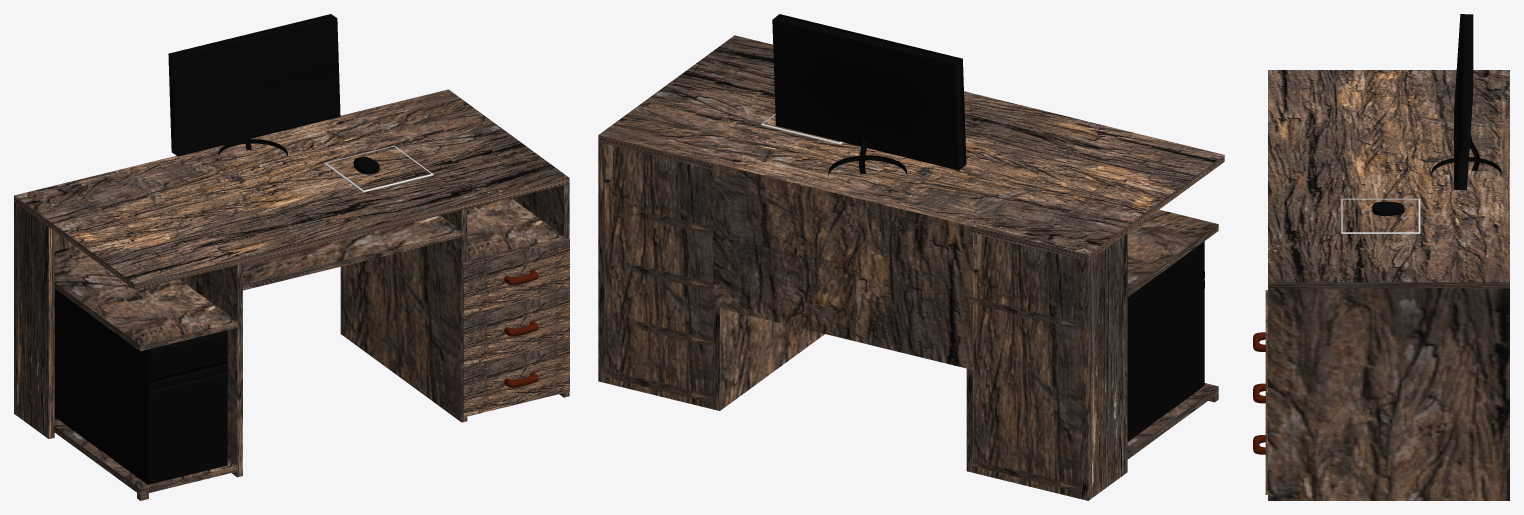
The model's file is Table.glb.
The picture shows the model from 3 angles, left to right: view 1: azimuth 30°, elevation 25°; view 2: azimuth 150°, elevation 25°; view 3: azimuth 270°, elevation 25°; orthographic projection. The views are drawn at different scales.
Visible parts, largest first — view 1: Cube, proccessor, monitor, Cube.003, Cube.006, Cube.001, Cube.005, Cube.017, Cube.018, Cube.016, Cube.004, Cube.012 (+2 smaller); view 2: Cube, Cube.009, Cube.011, Cube.010, monitor, proccessor, Cube.001, Cube.003, Cube.006, Cube.007, Cube.002, Cube.015 (+3 smaller); view 3: Cube.002, Cube, monitor, Cube.009, Plane, mouse, Cube.017.
Part boxes in pixels (bbox=[...]): Cube: bbox=[14, 89, 569, 289]; proccessor: bbox=[54, 289, 227, 484]; monitor: bbox=[168, 14, 340, 156]; Cube.003: bbox=[340, 209, 467, 422]; Cube.006: bbox=[54, 246, 237, 351]; Cube.001: bbox=[14, 201, 54, 438]; Cube.005: bbox=[242, 215, 462, 290]; Cube.017: bbox=[462, 238, 569, 314]; Cube.018: bbox=[462, 340, 569, 417]; Cube.016: bbox=[462, 289, 569, 365]; Cube.004: bbox=[179, 263, 242, 477]; Cube.012: bbox=[467, 198, 563, 262]; Cube: bbox=[598, 35, 1224, 261]; Cube.009: bbox=[713, 160, 976, 369]; Cube.011: bbox=[973, 233, 1091, 500]; Cube.010: bbox=[604, 143, 713, 409]; monitor: bbox=[772, 14, 966, 177]; proccessor: bbox=[1127, 241, 1204, 441]; Cube.001: bbox=[1082, 233, 1127, 500]; Cube.003: bbox=[713, 307, 824, 410]; Cube.006: bbox=[973, 209, 1218, 330]; Cube.007: bbox=[973, 383, 1218, 492]; Cube.002: bbox=[598, 142, 604, 382]; Cube.015: bbox=[604, 369, 713, 403]; Cube.002: bbox=[1268, 288, 1509, 500]; Cube: bbox=[1268, 70, 1509, 288]; monitor: bbox=[1431, 14, 1501, 190]; Cube.009: bbox=[1503, 120, 1509, 231]; Plane: bbox=[1341, 198, 1420, 233]; mouse: bbox=[1372, 201, 1404, 215]; Cube.017: bbox=[1265, 290, 1267, 392].
Size of what is drawn, in the model's own units: 4.81 by 3.61 by 2.46.
7 materials, 2 textured.
